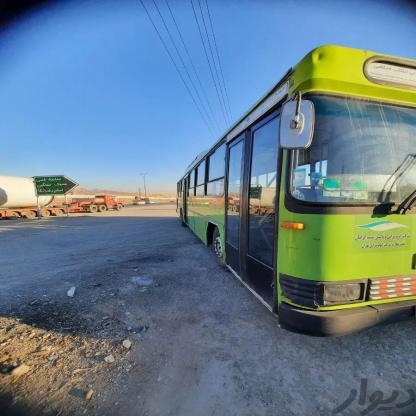Bus: (148, 46, 416, 347)
